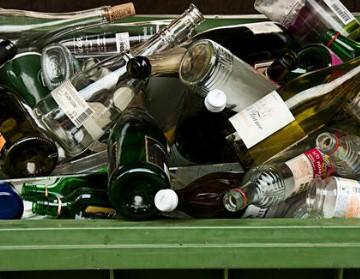glass: (40, 2, 204, 158), (223, 51, 360, 169), (220, 133, 340, 214), (104, 82, 171, 219), (177, 38, 290, 116), (153, 169, 257, 220), (168, 88, 230, 168), (31, 187, 113, 224), (23, 179, 104, 210)
